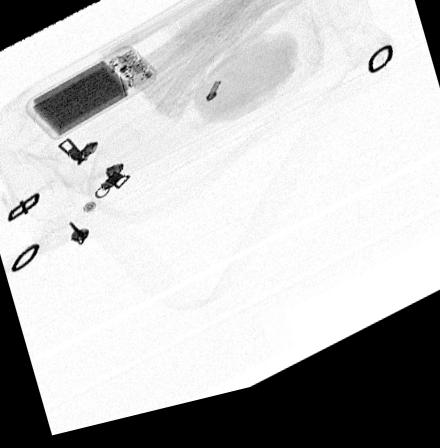Powerbank: (25, 51, 157, 141)
